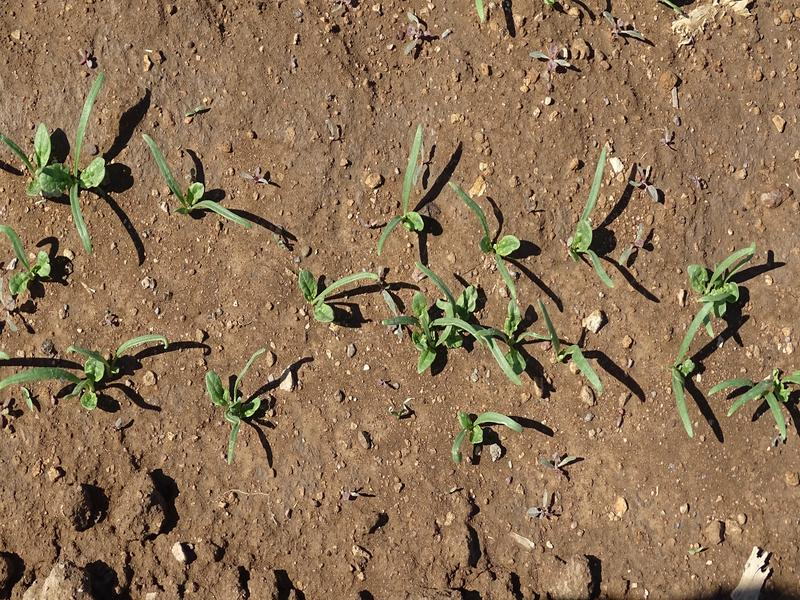Espinaca: (397, 280, 607, 393), (11, 72, 109, 222), (662, 354, 800, 441), (5, 331, 174, 400), (142, 137, 253, 236), (189, 347, 269, 457), (368, 130, 426, 253), (678, 249, 749, 347), (574, 139, 618, 284), (451, 191, 519, 274), (295, 259, 381, 322), (446, 408, 526, 459), (4, 227, 50, 297)
